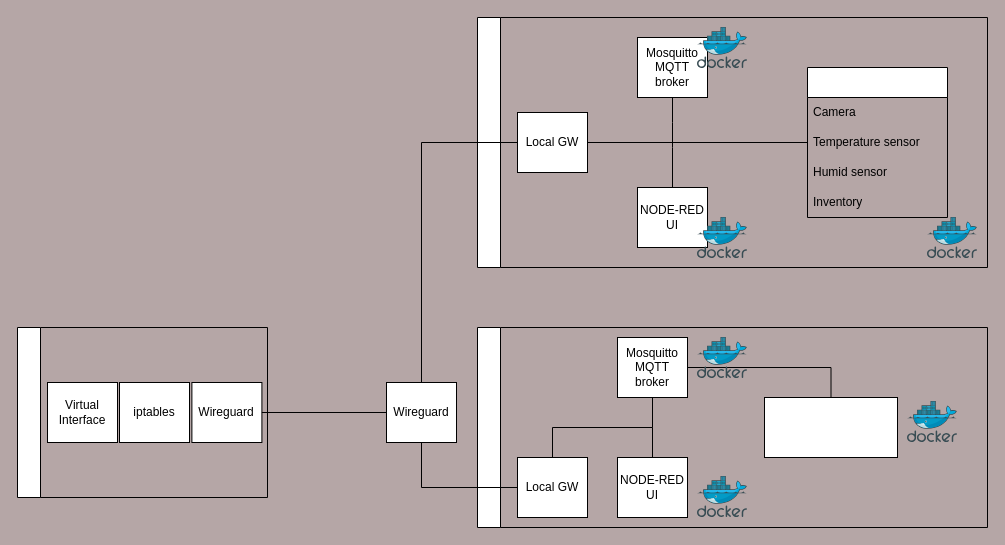
This 1005x545 diagram has some shape labels left out. Each missing label, with the box of its shape:
Deployment 1 - 9V: (476, 16, 988, 268)
Deployment 2 - 24V: (476, 326, 988, 528)
mqtt emulator paho-mqtt Python: (806, 66, 948, 218)
Onsite connector: (16, 326, 268, 498)
opcua server emulator python opcua server: (764, 396, 898, 458)
